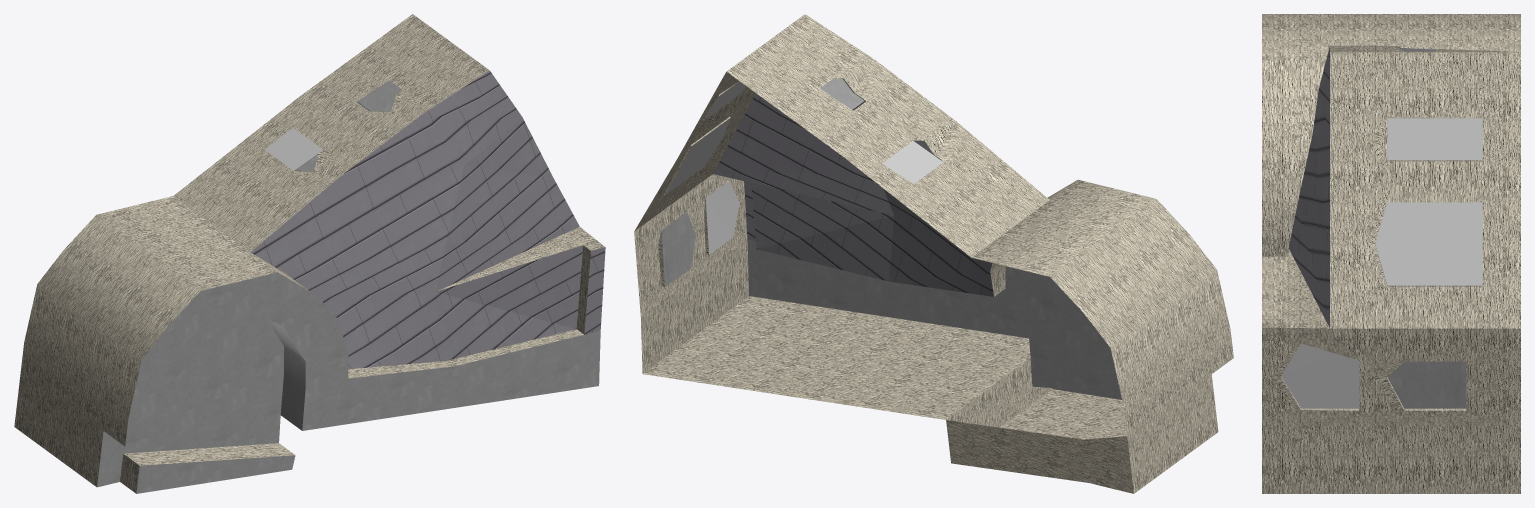
The model's file is Tolli_4_2-origo.obj.
3 renders of one model, left to right at view 1: azimuth 30°, elevation 25°; view 2: azimuth 150°, elevation 25°; view 3: azimuth 270°, elevation 25°, orthographic. The views are drawn at different scales.
Visible parts, largest first — view 1: Tolli_4_2; view 2: Tolli_4_2; view 3: Tolli_4_2.
Boxes of the visible parts, x1,y1,x2,y2 form: Tolli_4_2: (14, 14, 605, 493); Tolli_4_2: (634, 14, 1233, 493); Tolli_4_2: (1262, 14, 1520, 493).
Size of the model in its own units: 18.62 by 12 by 6.88.
